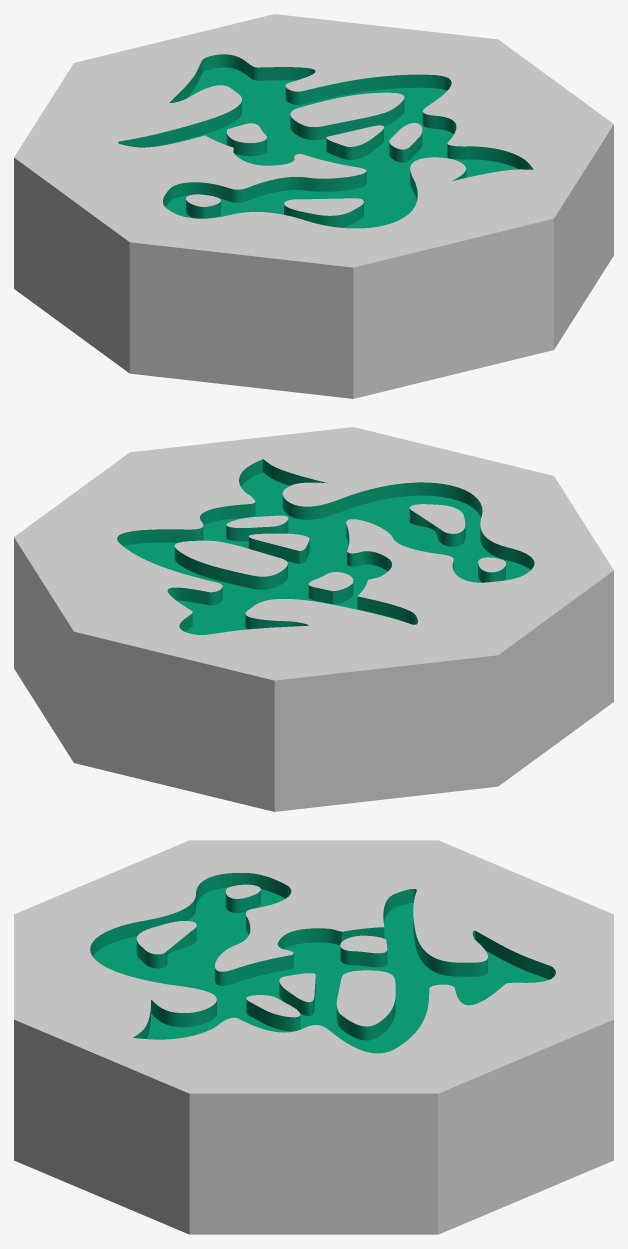
3 views of the same model, one above another, from view 1: azimuth 30°, elevation 25°; view 2: azimuth 150°, elevation 25°; view 3: azimuth 270°, elevation 25° (orthographic). The views are drawn at different scales.
Visible parts, largest first — view 1: 초_상; view 2: 초_상; view 3: 초_상.
Part boxes in pixels (x1=…): 초_상: x1=14, y1=14, x2=613, y2=398; 초_상: x1=14, y1=427, x2=613, y2=811; 초_상: x1=14, y1=840, x2=613, y2=1234.
Bounding box in the file's own units: 2700 × 700 × 2700.
